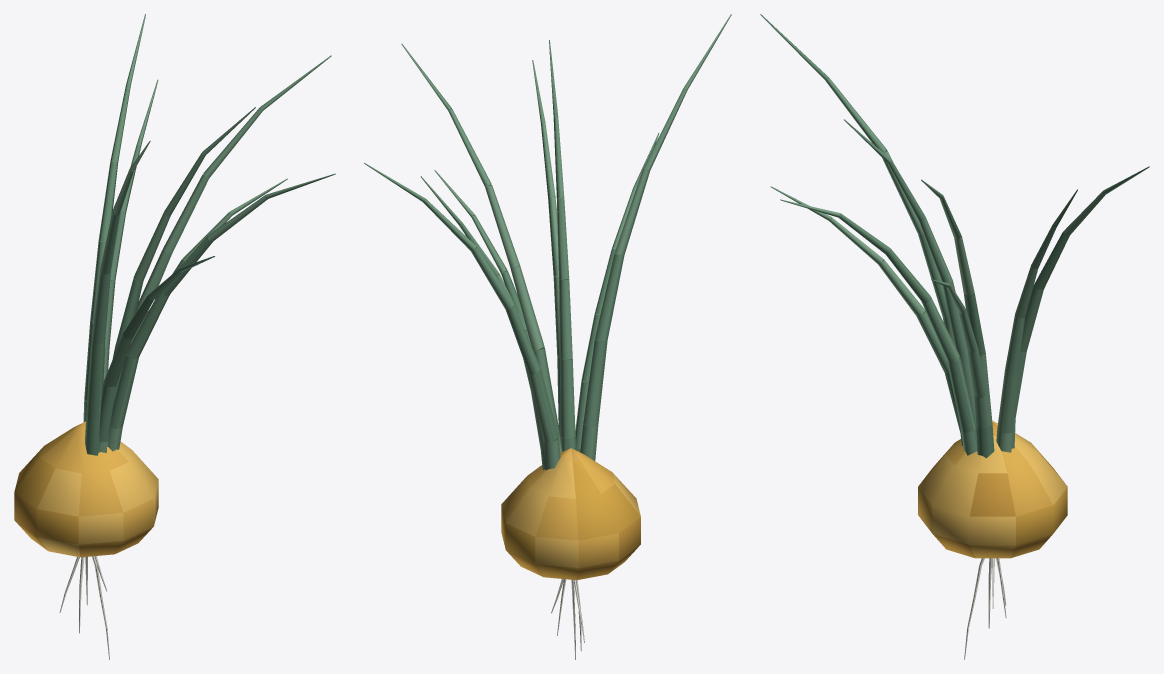
File: oignon_jaune_bulbaison.glb
3 renders of one model, left to right at view 1: azimuth 30°, elevation 25°; view 2: azimuth 150°, elevation 25°; view 3: azimuth 270°, elevation 25°, orthographic. The views are drawn at different scales.
Parts seen in each view (by area): view 1: Oignon_Feuilles, Oignon_Bulbe, Oignon_Racines; view 2: Oignon_Feuilles, Oignon_Bulbe, Oignon_Racines; view 3: Oignon_Feuilles, Oignon_Bulbe, Oignon_Racines.
Part boxes in pixels (<box>): Oignon_Feuilles: <box>83,14,335,455</box>; Oignon_Bulbe: <box>14,421,158,557</box>; Oignon_Racines: <box>59,556,109,659</box>; Oignon_Feuilles: <box>364,14,731,470</box>; Oignon_Bulbe: <box>501,448,640,580</box>; Oignon_Racines: <box>551,579,584,659</box>; Oignon_Feuilles: <box>760,14,1149,458</box>; Oignon_Bulbe: <box>918,421,1067,558</box>; Oignon_Racines: <box>964,558,1006,659</box>.
Size of the model in its own units: 0.2274 by 0.487 by 0.2791.
